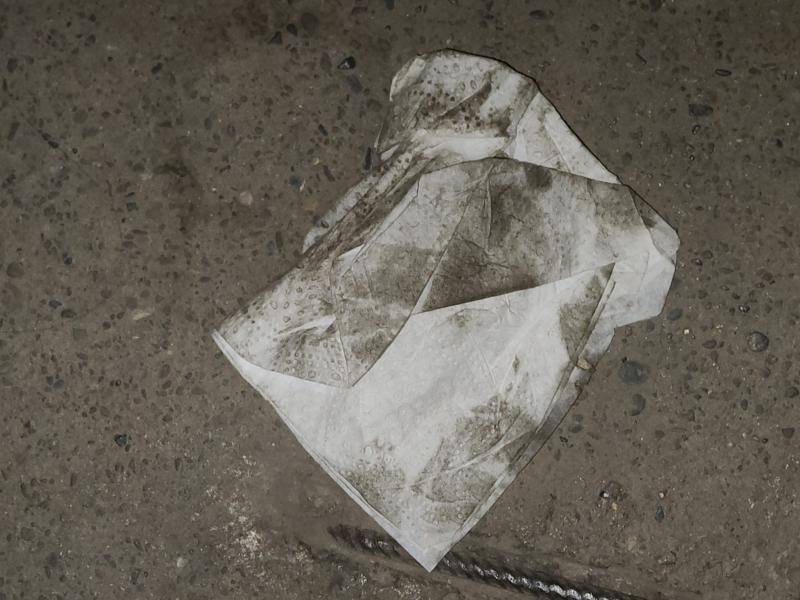papel: (211, 50, 681, 573)
